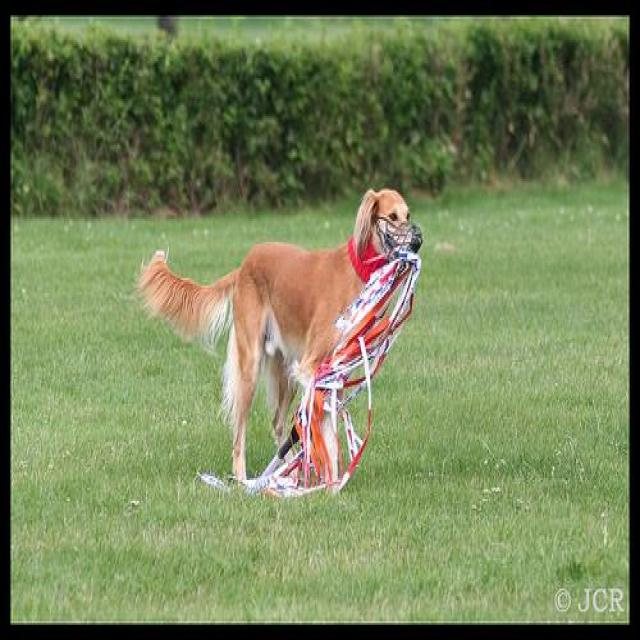saluki: (131, 183, 426, 501)
